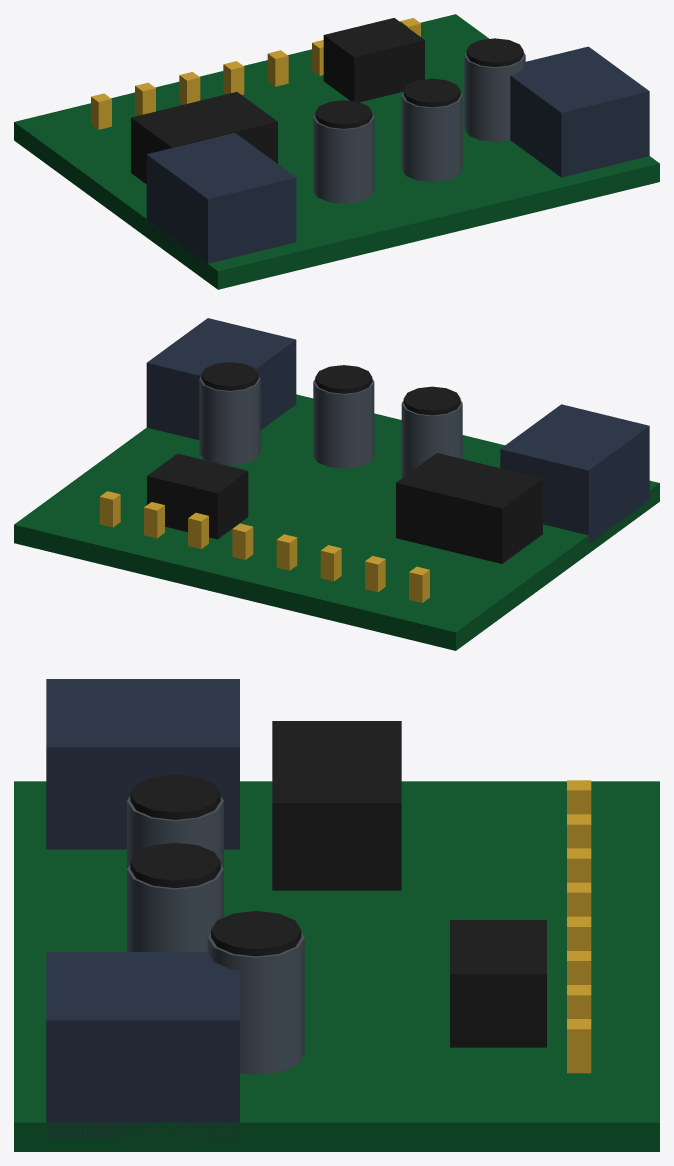
File: control-board.glb
The picture shows the model from 3 angles, top to bottom: view 1: azimuth 30°, elevation 25°; view 2: azimuth 150°, elevation 25°; view 3: azimuth 270°, elevation 25°; orthographic projection. The views are drawn at different scales.
Bounding box in the file's own units: 0.5 × 0.105 × 0.4.
